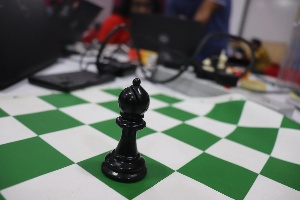black_bishop: (95, 71, 151, 187)
